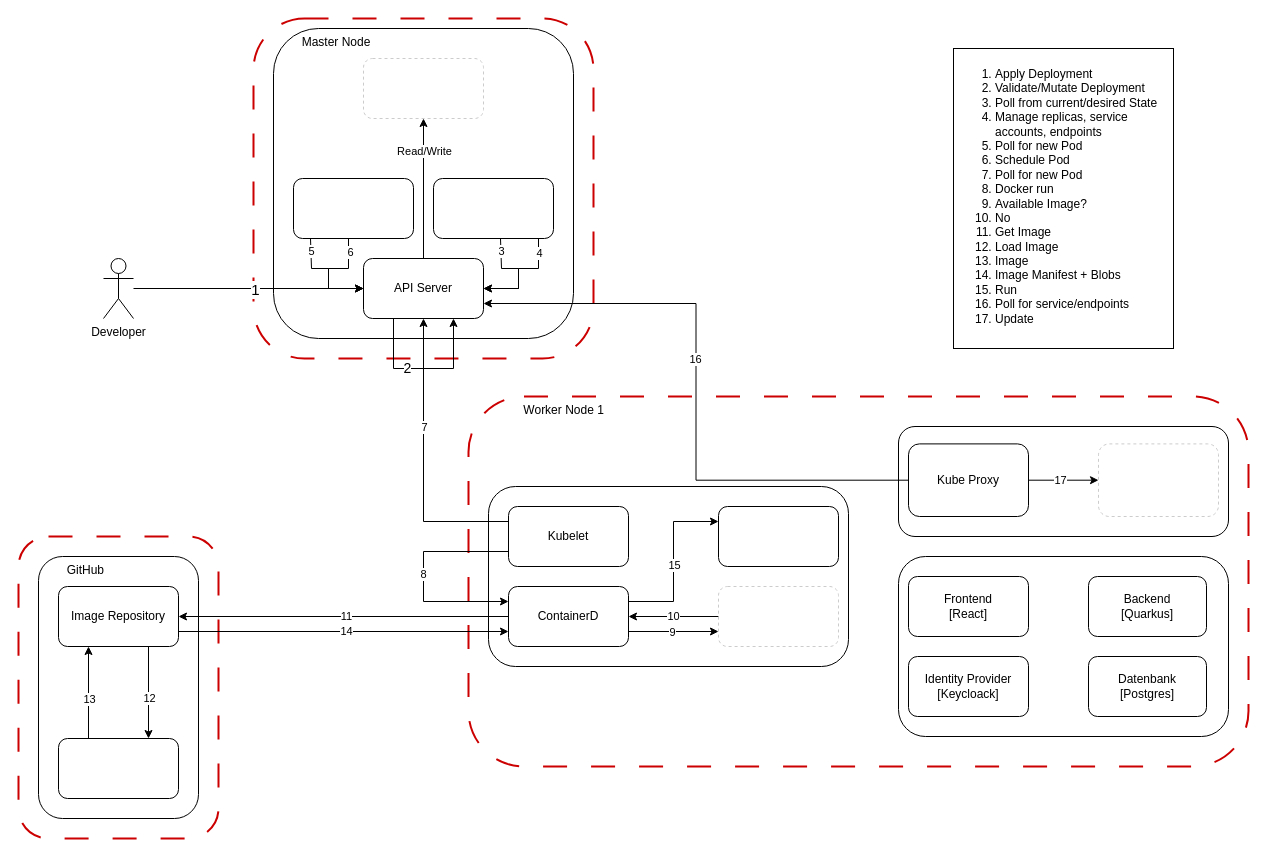
Some shapes in this 1266 by 856 pixel diagram are drawn without their labels. Each missing label, with the centre of its shape:
"Controller" goes at (493,208).
"etcD" goes at (423,88).
"Image Cache" goes at (778,616).
"Image Repository Data Source" goes at (118,768).
"IP Tables" goes at (1158,479).
"RunC" goes at (778,536).
"Scheduler" goes at (353,208).
